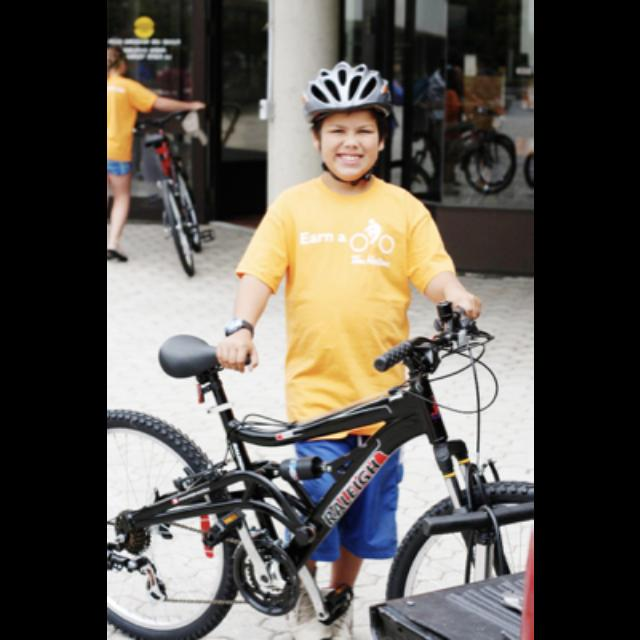With Helmet: (294, 54, 401, 190)
